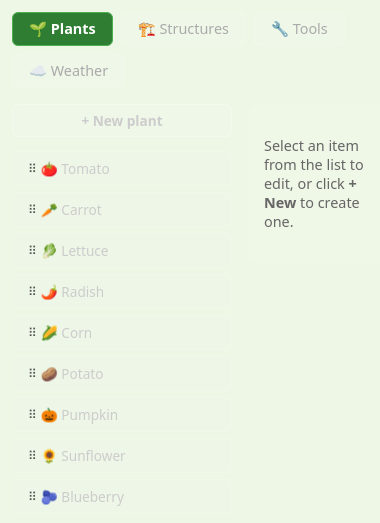
ContentCreator — tab switching › switches to Tools tab and shows default tools
Click the button "🔧 Tools": point(299, 29) [254, 12, 345, 46]
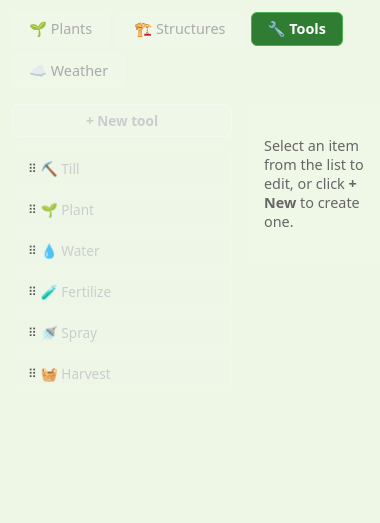
Check: the text "🧺 Harvest" is shown, box [41, 364, 111, 383]
